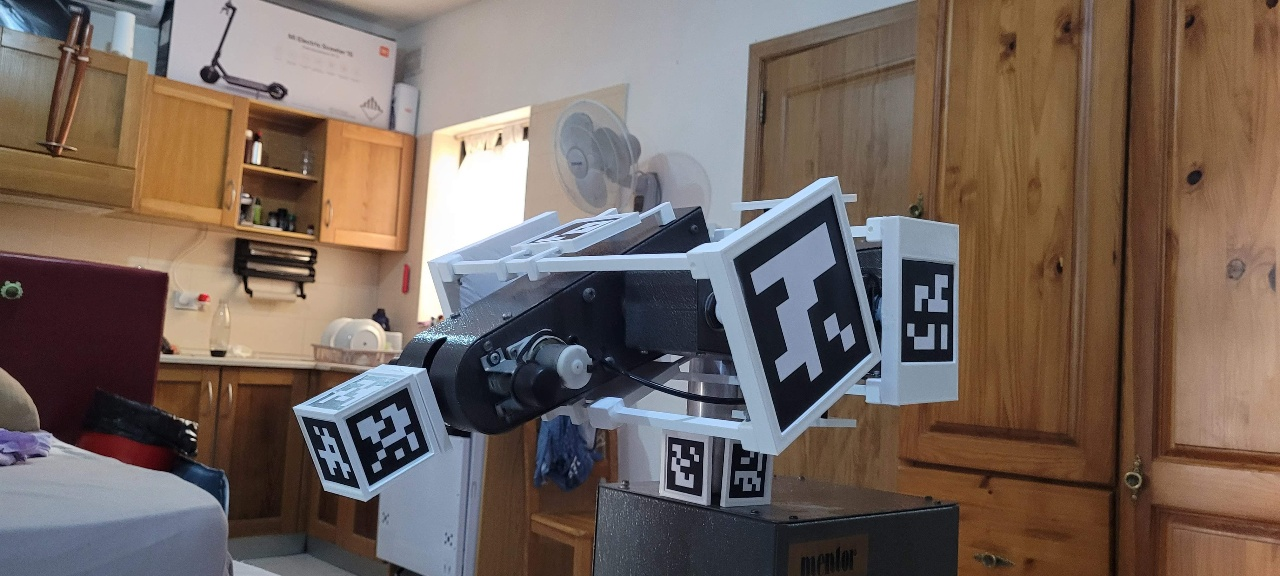Robot: (272, 22, 829, 576)
